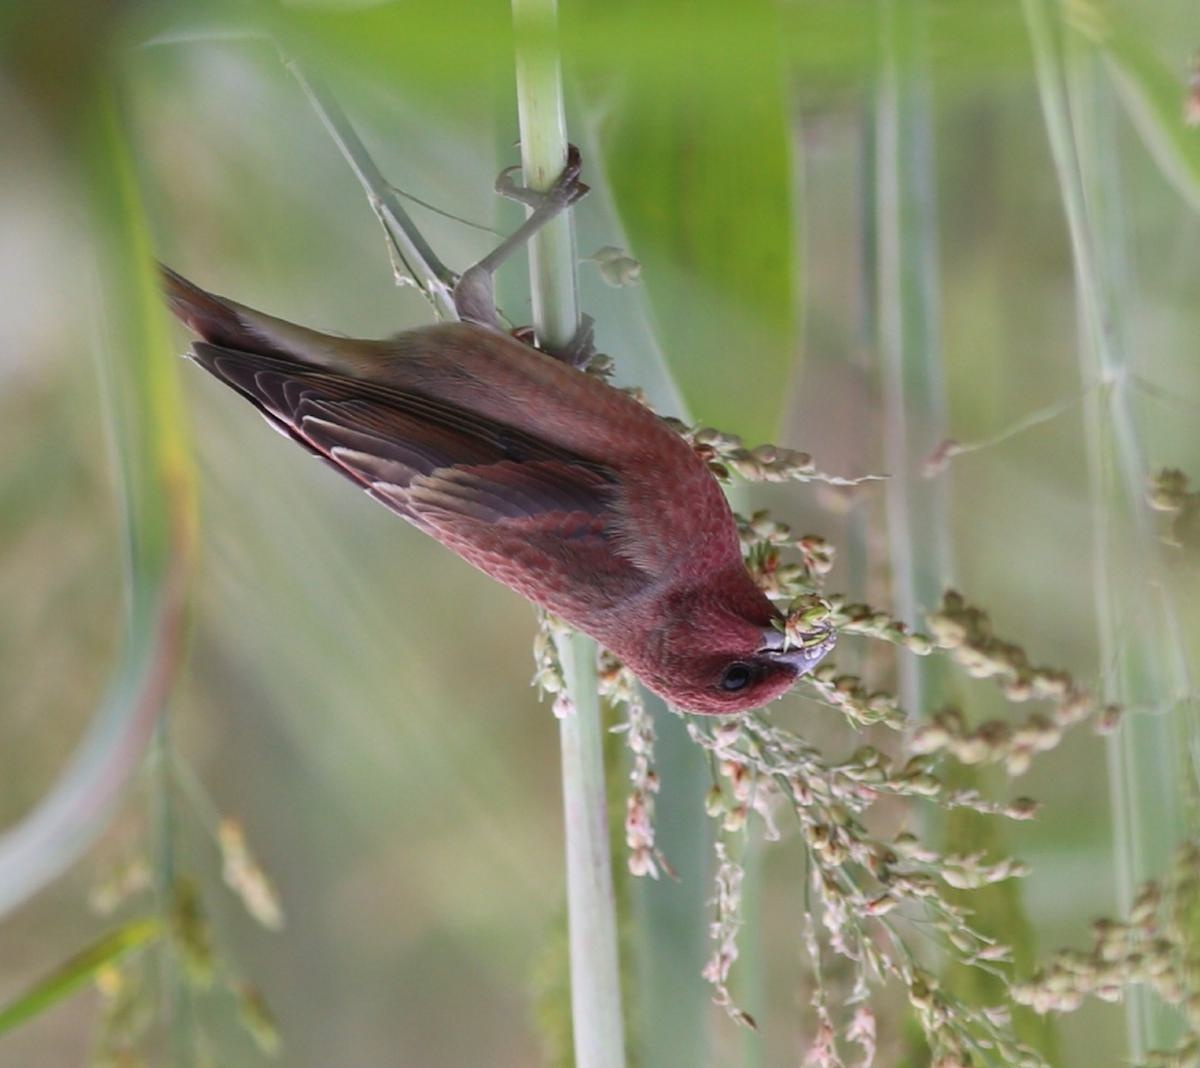rosefinch: (185, 259, 845, 733)
